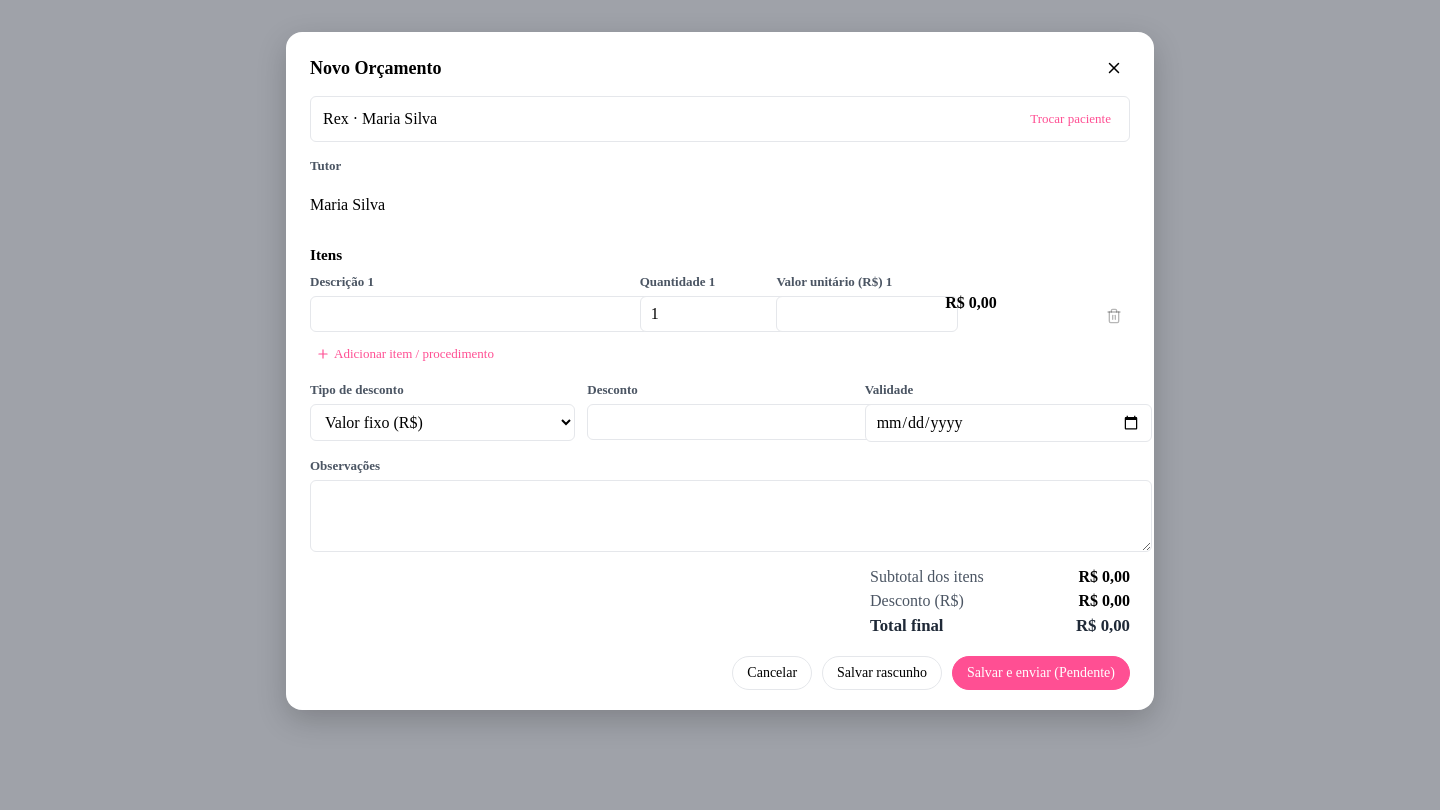
it: NewBudgetModal › recalcula subtotal e total em tempo real ao mudar quantidade, valor e desconto em R$
Expected: the text "Maria Silva" is shown, [310,196,385,213]
Replace the text in the field named "Quantidade do item 1" with "2": (715, 314) [640,296,790,332]
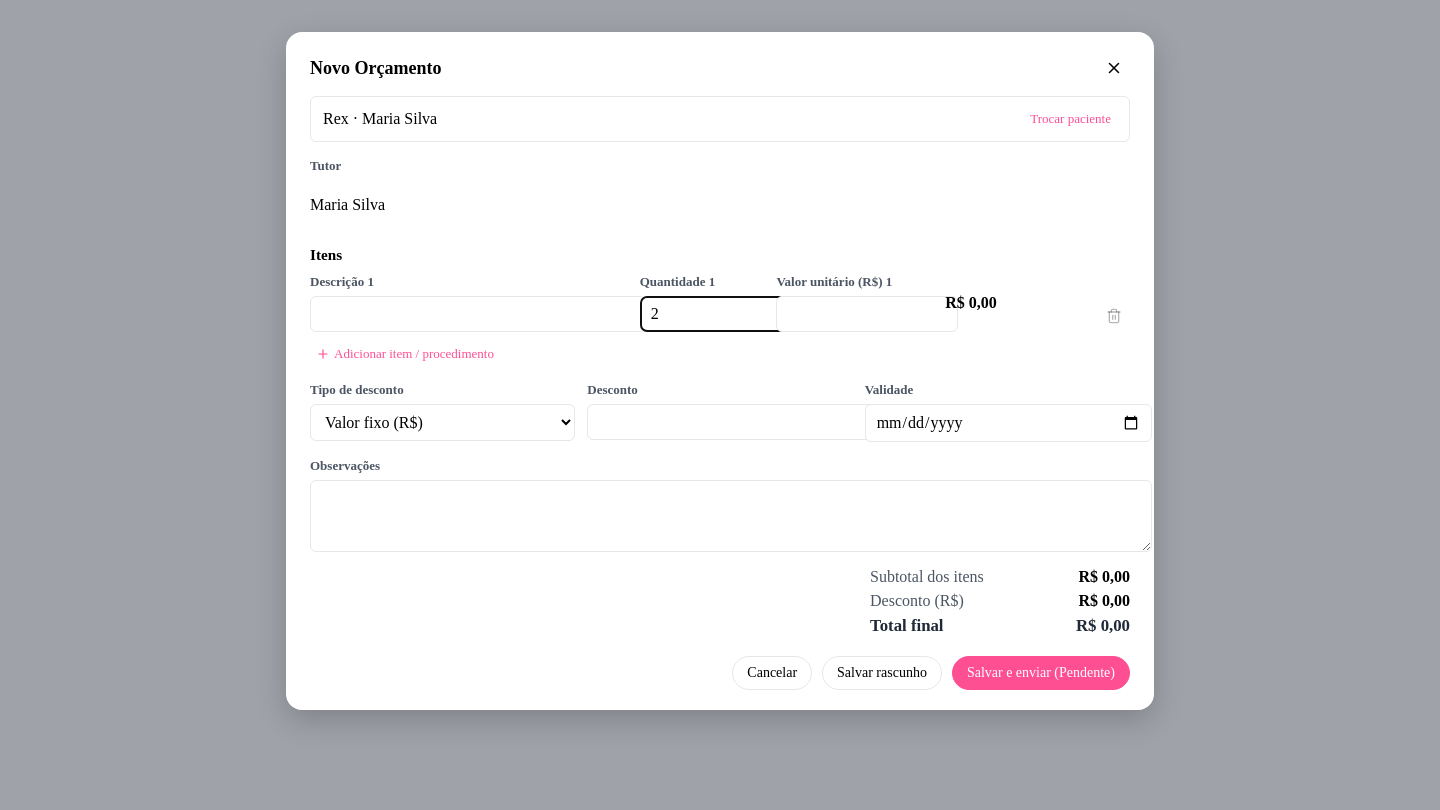
In the field named "Valor unitário do item 1": (867, 314) [776,296,958,332], type "50"
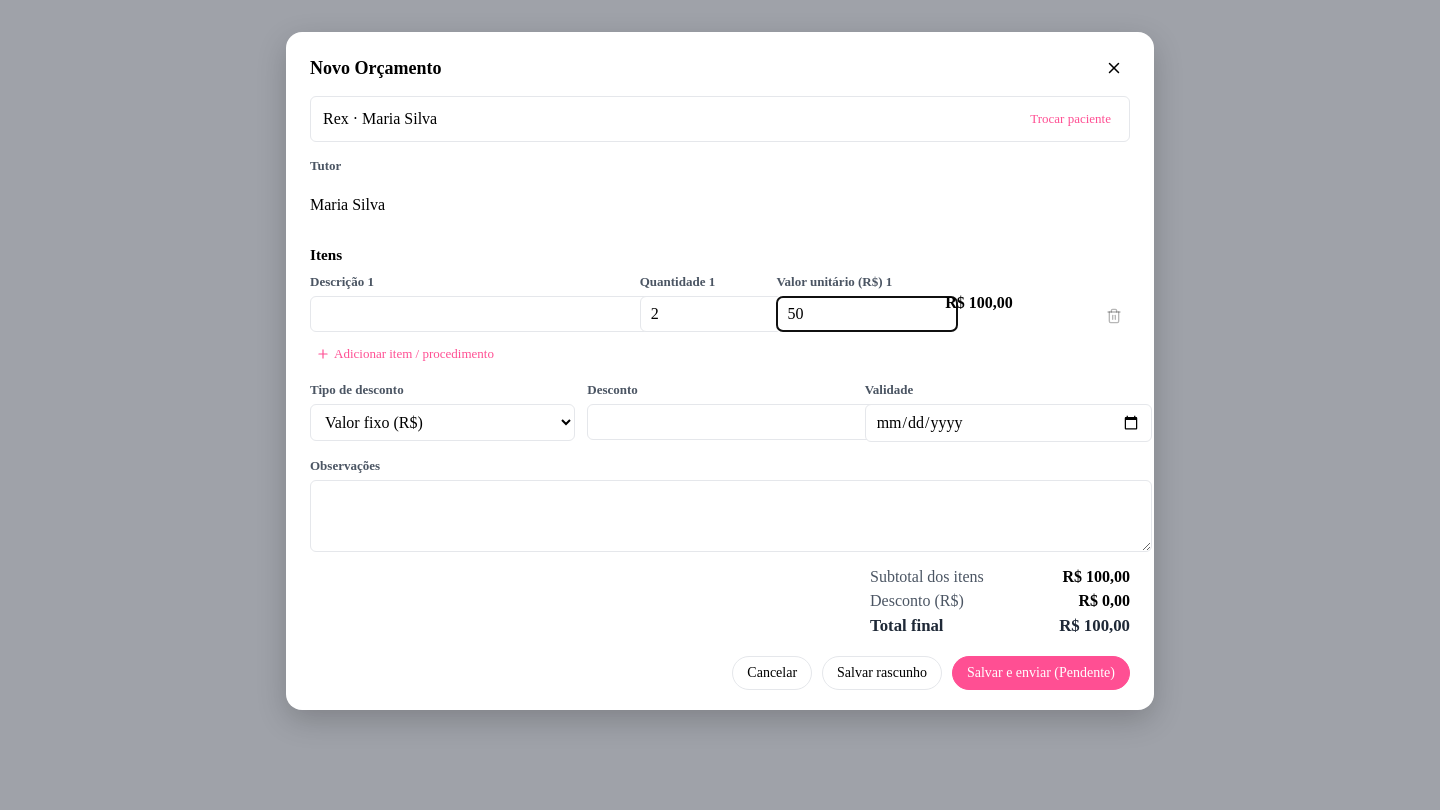
Expected: the text with test id "item-subtotal-1" shows "100,00", [945,294,1013,311]
Expected: the text with test id "budget-total" shows "100,00", [1059,616,1130,635]
In the field labelled "Desconto": (731, 422) [587,404,875,440], type "30"
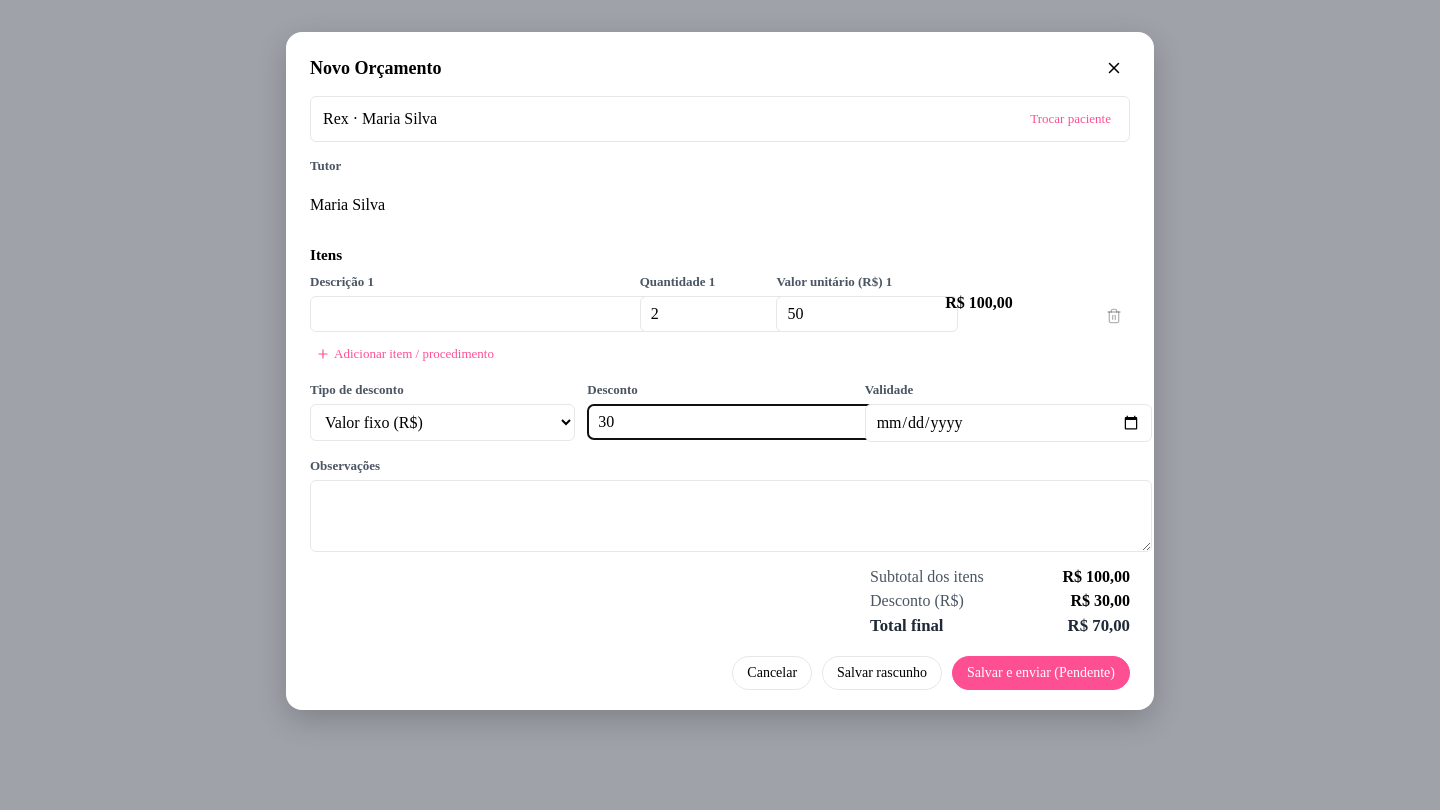
Expected: the text with test id "budget-discount" shows "30,00", [1070,592,1130,609]
Expected: the text with test id "budget-total" shows "70,00", [1068,616,1130,635]
